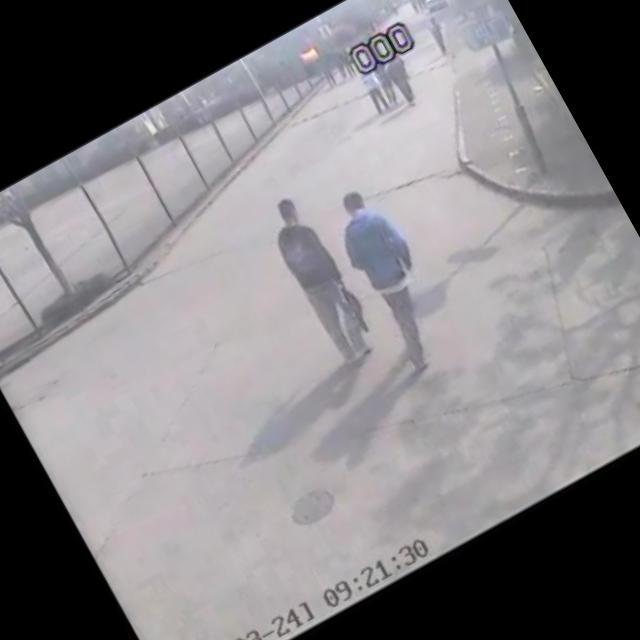person: (314, 175, 470, 382), (255, 188, 387, 372), (349, 56, 402, 122), (418, 9, 458, 61)
